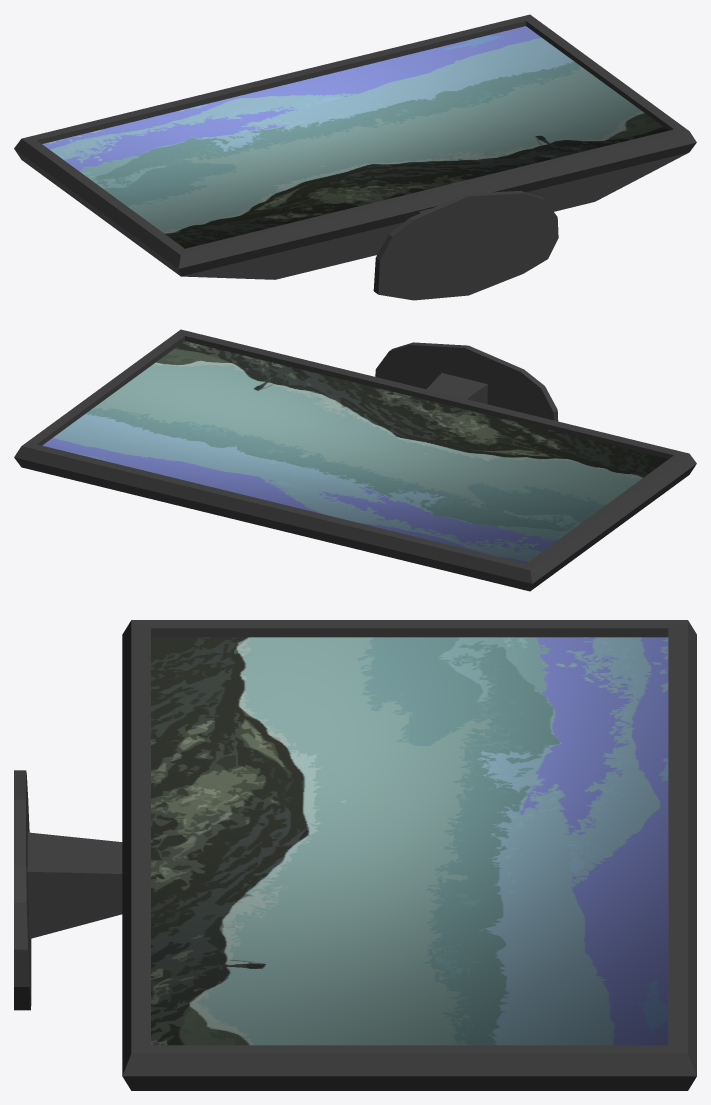
The picture shows the model from 3 angles, top to bottom: view 1: azimuth 30°, elevation 25°; view 2: azimuth 150°, elevation 25°; view 3: azimuth 270°, elevation 25°; orthographic projection. The views are drawn at different scales.
Parts seen in each view (by area): view 1: TV; view 2: TV; view 3: TV.
Boxes of the visible parts, x1,y1,x2,y2 form: TV: [14, 14, 696, 300]; TV: [14, 329, 696, 591]; TV: [14, 620, 696, 1090].
Bounding box in the file's own units: 0.9899 × 0.1807 × 0.6465.
2 materials, 2 textured.
